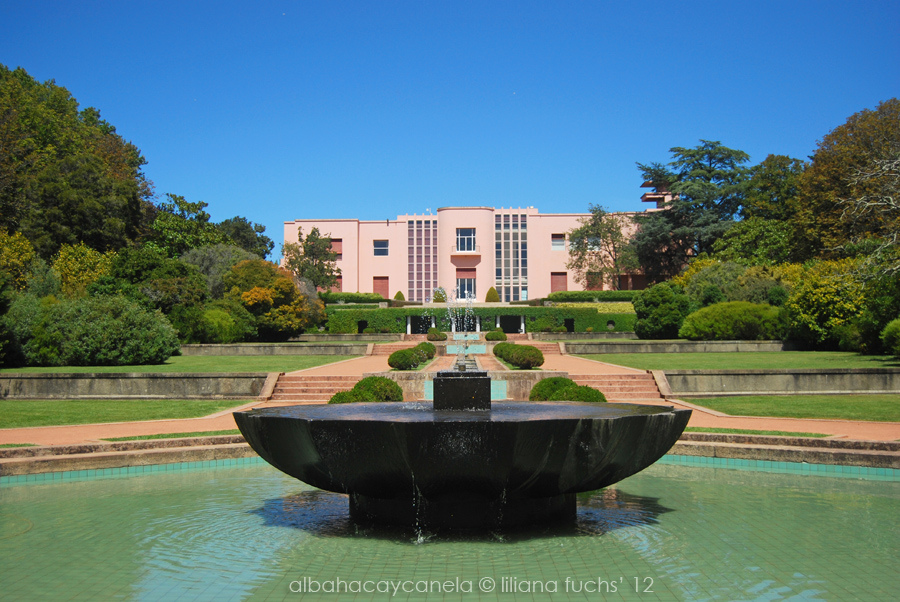serralves: (281, 185, 695, 303)
